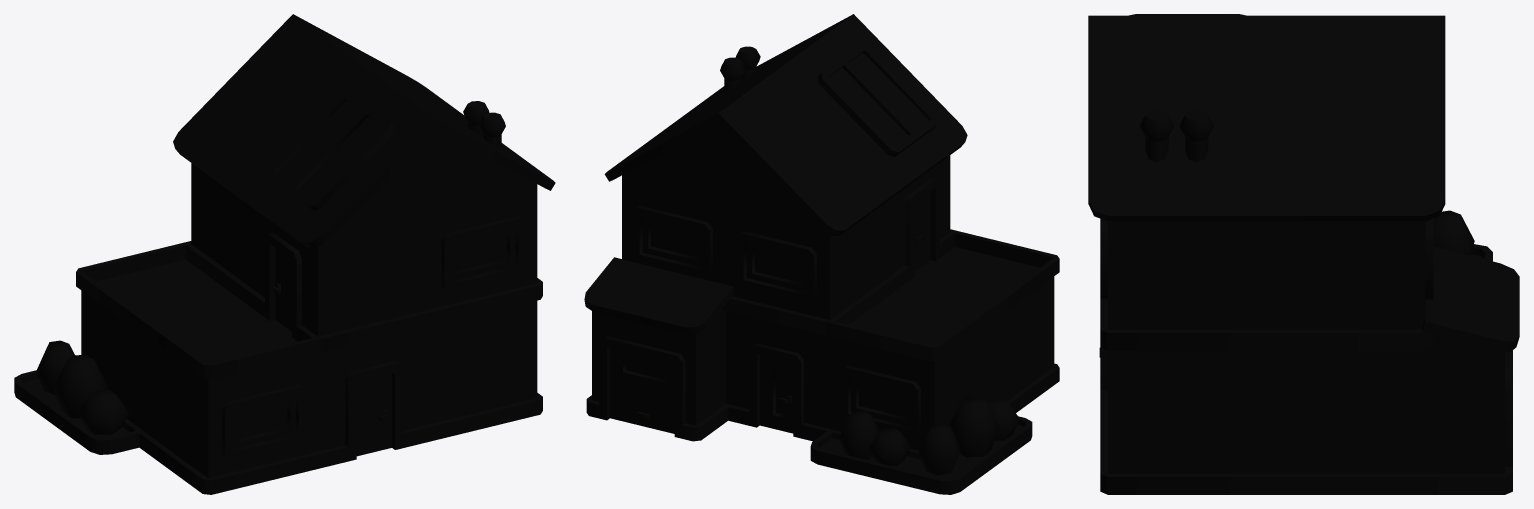
File: building-type-u.glb
3 renders of one model, left to right at view 1: azimuth 30°, elevation 25°; view 2: azimuth 150°, elevation 25°; view 3: azimuth 270°, elevation 25°, orthographic. The views are drawn at different scales.
Visible parts, largest first — view 1: building-type-u; view 2: building-type-u; view 3: building-type-u.
Boxes of the visible parts, bbox=[...] form: building-type-u: bbox=[14, 14, 555, 494]; building-type-u: bbox=[584, 14, 1059, 494]; building-type-u: bbox=[1088, 14, 1519, 494].
Size of the model in its own units: 1.43 by 1.14 by 1.09.
1 material, 1 textured.
